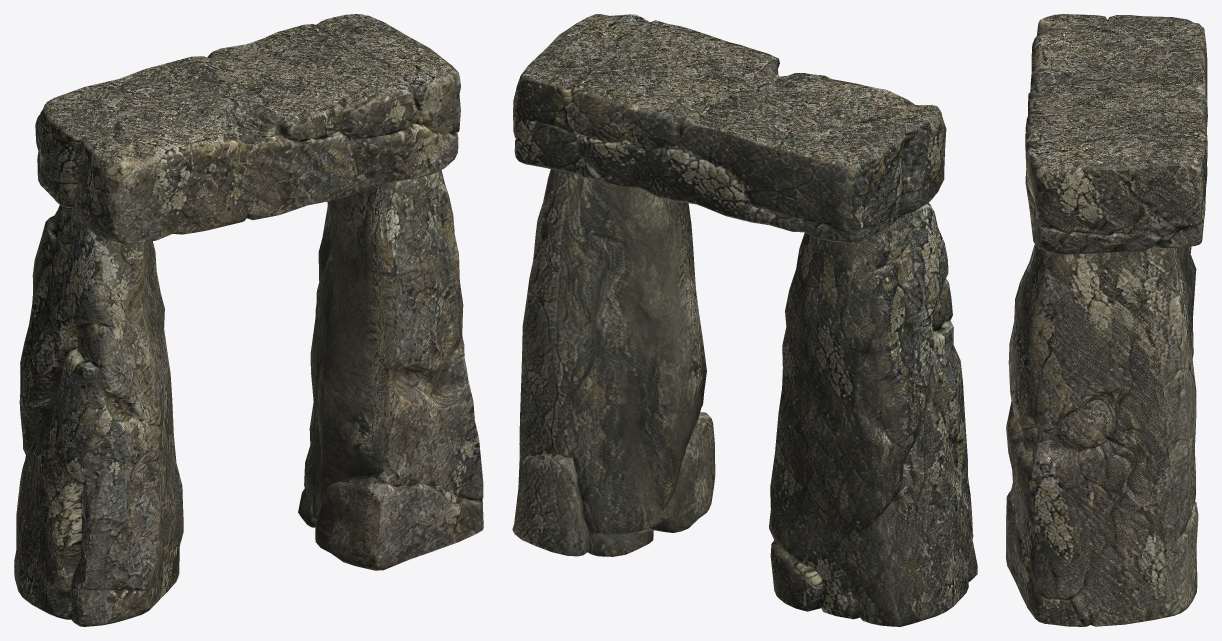
The model's file is Portal_generico_1.glb.
3 views of the same model, side by side, from view 1: azimuth 30°, elevation 25°; view 2: azimuth 150°, elevation 25°; view 3: azimuth 270°, elevation 25° (orthographic). The views are drawn at different scales.
Parts seen in each view (by area): view 1: tripo_node_72471ffb-a2d5-443d-9414-395101cfc826; view 2: tripo_node_72471ffb-a2d5-443d-9414-395101cfc826; view 3: tripo_node_72471ffb-a2d5-443d-9414-395101cfc826.
Part boxes in pixels (left/top/right/bottom): tripo_node_72471ffb-a2d5-443d-9414-395101cfc826: left=14, top=14, right=483, bottom=626; tripo_node_72471ffb-a2d5-443d-9414-395101cfc826: left=512, top=14, right=977, bottom=626; tripo_node_72471ffb-a2d5-443d-9414-395101cfc826: left=1006, top=14, right=1207, bottom=626.
Size of the model in its own units: 0.9517 by 0.9995 by 0.4067.
1 material, 1 textured.
